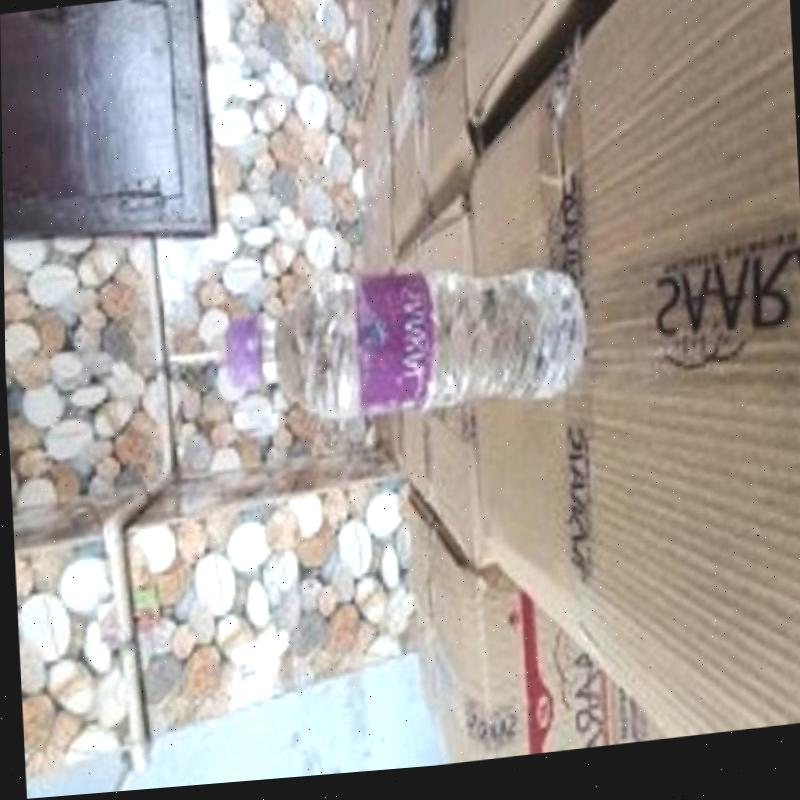botella: (220, 251, 582, 444)
